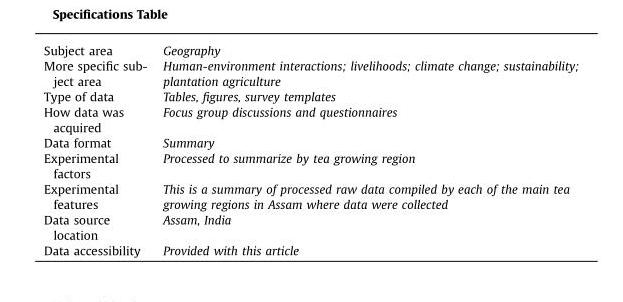table: (43, 42, 577, 257)
table column: (154, 42, 577, 257), (43, 42, 154, 257)
table row: (43, 57, 577, 88), (43, 103, 577, 134), (43, 149, 577, 180), (43, 180, 577, 211), (43, 211, 577, 242), (43, 42, 577, 57), (43, 88, 577, 103), (43, 134, 577, 149), (43, 242, 577, 257)
